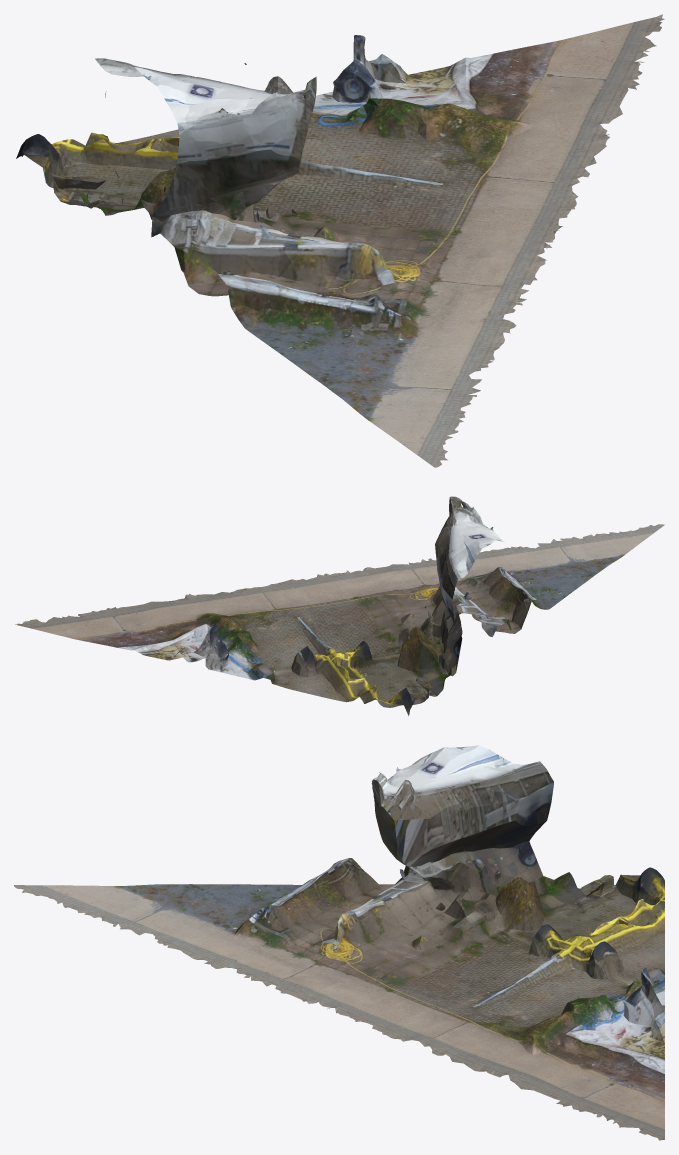
3 views of the same model, one above another, from view 1: azimuth 30°, elevation 25°; view 2: azimuth 150°, elevation 25°; view 3: azimuth 270°, elevation 25° (orthographic). The views are drawn at different scales.
Size of the model in its own units: 14.88 by 4.5 by 16.71.
2 materials, 2 textured.
